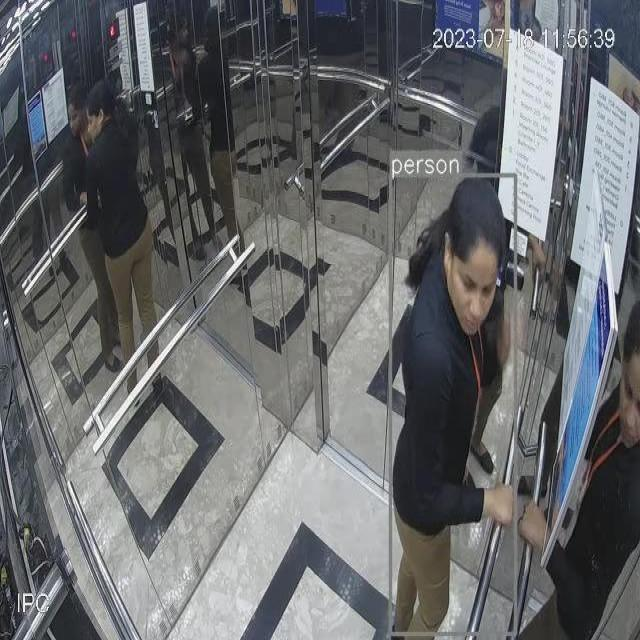person: (391, 173, 517, 639), (72, 79, 150, 405)
